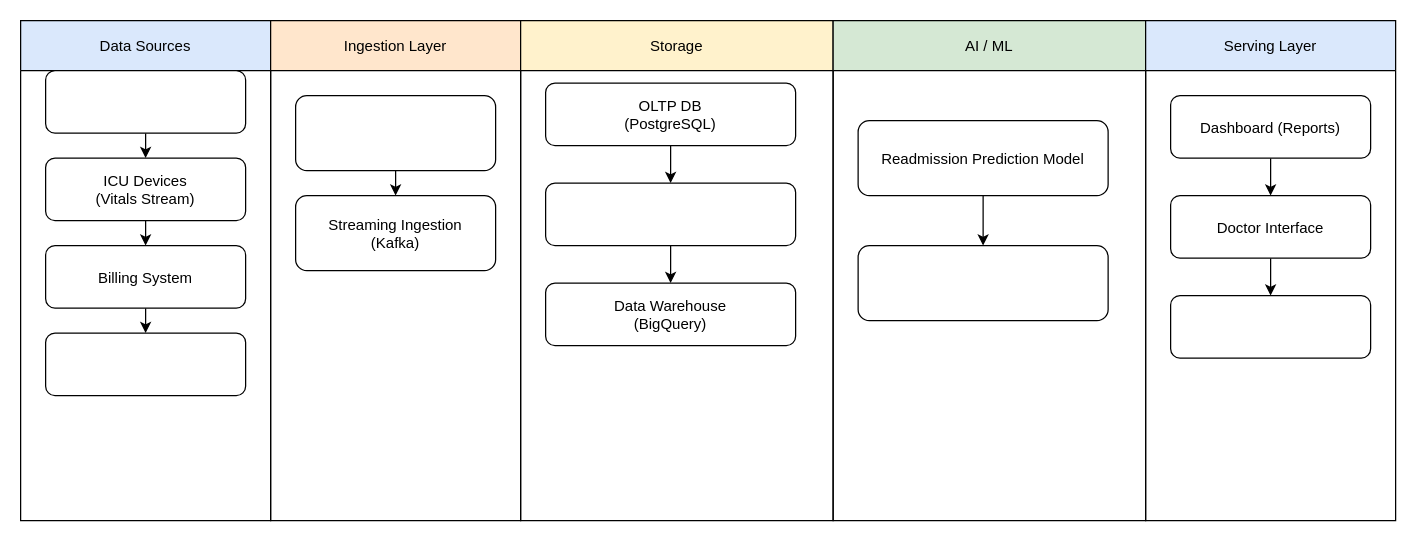
The diagram is 1416 pixels wide and 541 high, and some of its shapes have lost their labels. Here are the shapes that lost their labels. From the top down, the centre of each, then its label:
At [145,101]: "EHR System (Patient Records)".
At [395,132]: "Batch Ingestion (ETL)".
At [670,214]: "Data Lake (S3 / GCS)".
At [982,282]: "NLP Query System".
At [1270,326]: "Real-time Alerts".
At [145,364]: "Doctor Notes (Text Data)".
